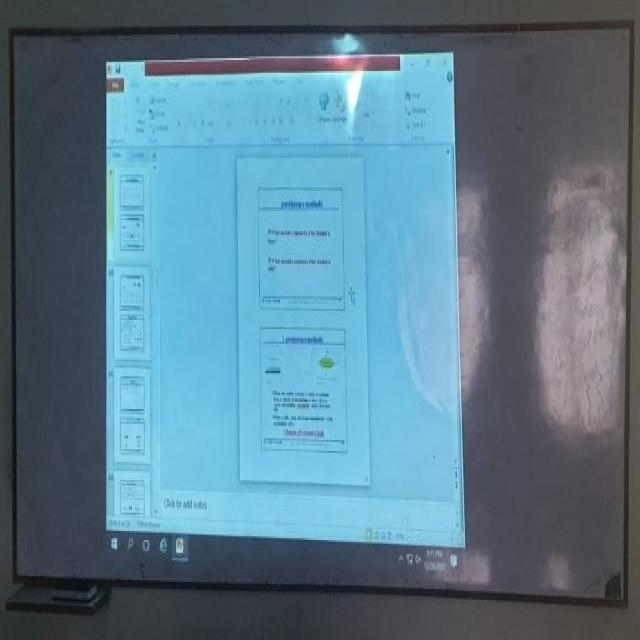Slide: (103, 47, 465, 575)
White-board: (10, 26, 632, 606)
